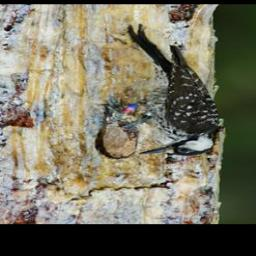Woodpecker: (106, 25, 222, 156)
